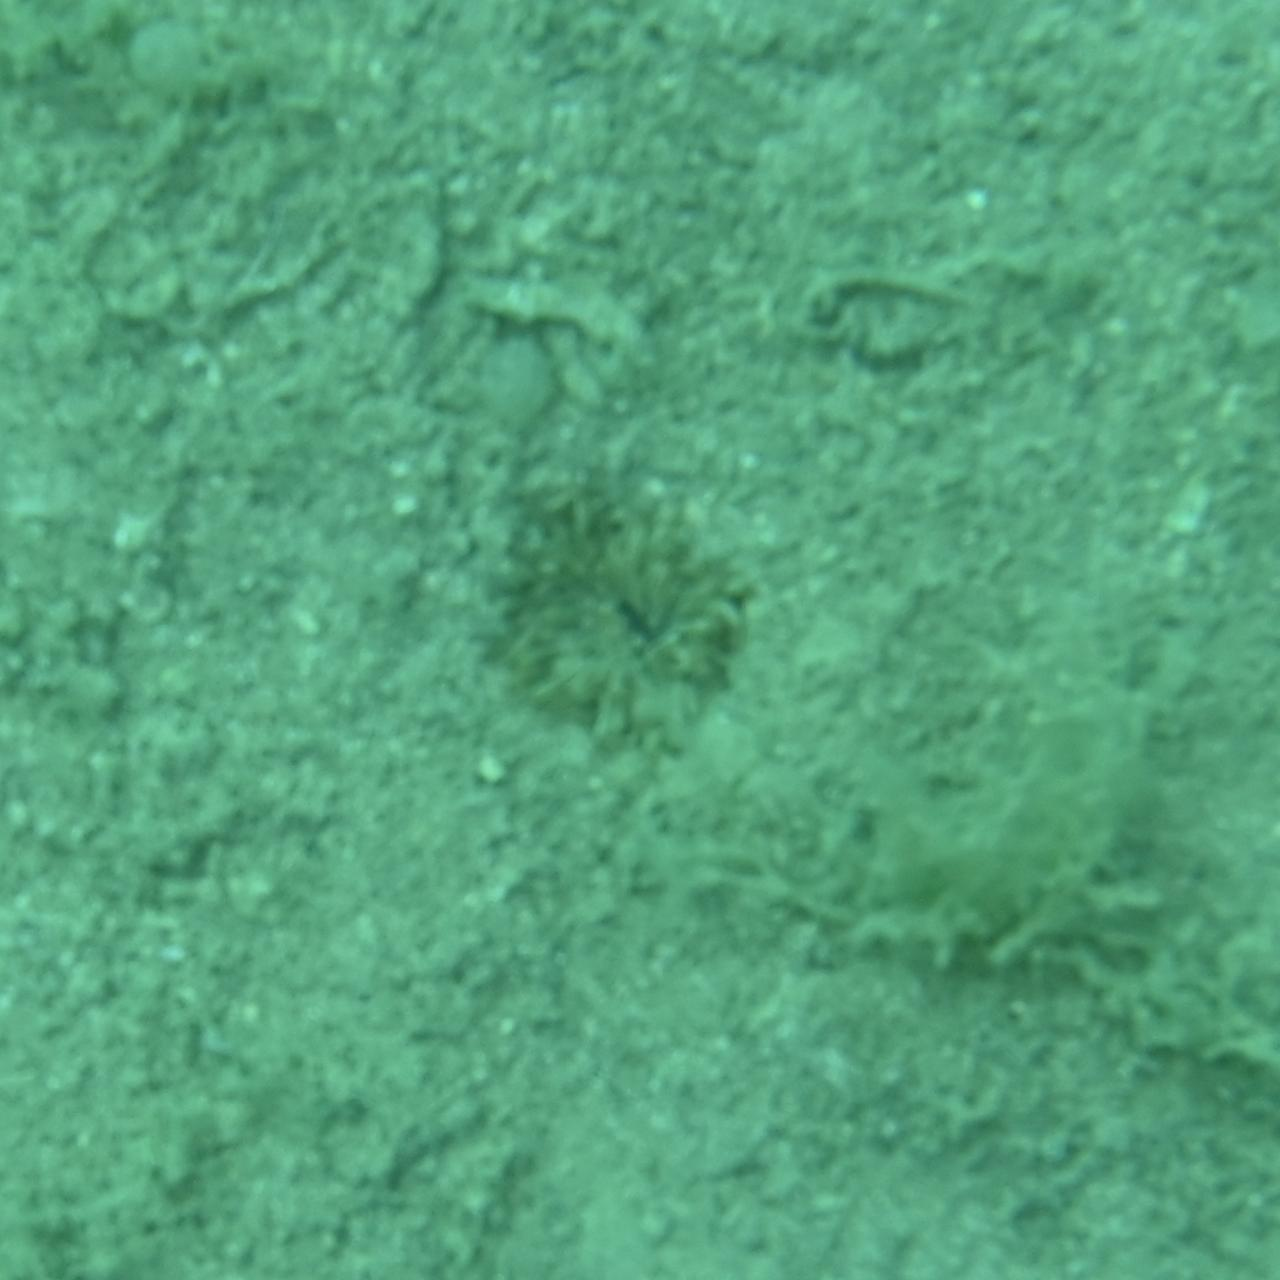Condylactis aurantiaca: (489, 488, 791, 792)
